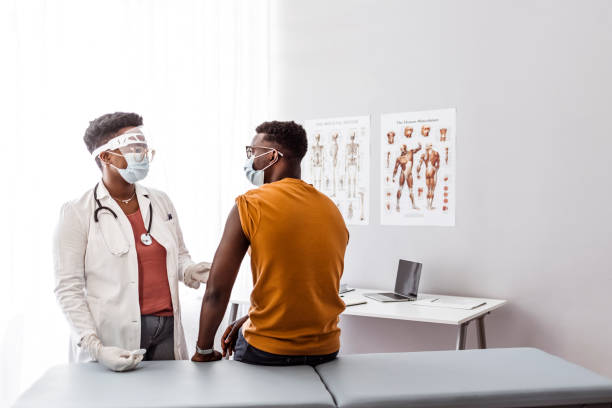with mask: (86, 116, 162, 186), (244, 123, 304, 186)
